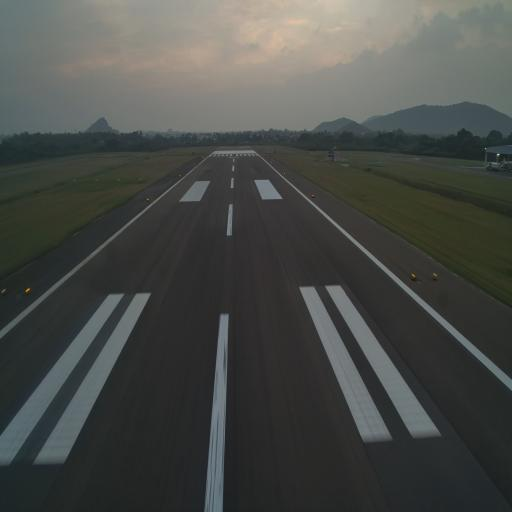on: (0, 280, 7, 299), (432, 270, 440, 283), (409, 271, 417, 283), (24, 285, 32, 296)
